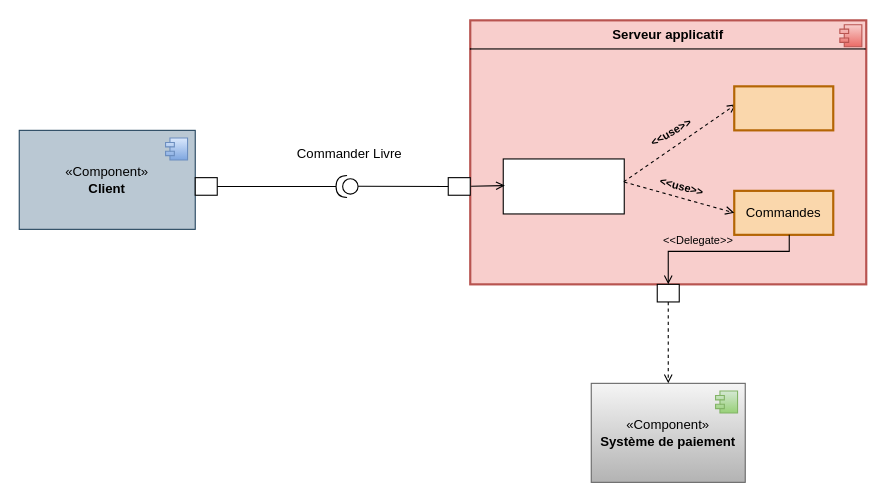
The diagram is 887 pixels wide and 502 high, and some of its shapes have lost their labels. Each missing label, with the box of its shape:
Livres: (733, 85, 834, 131)
Services: (502, 158, 624, 214)
